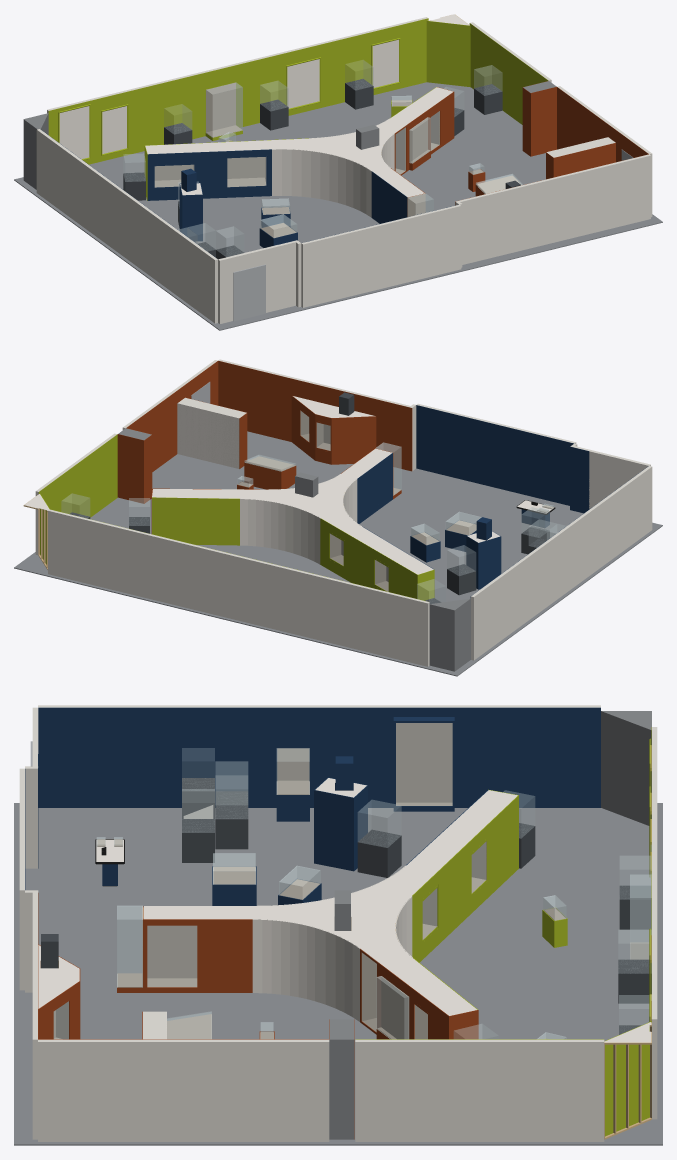
File: galeria.glb
The picture shows the model from 3 angles, top to bottom: view 1: azimuth 30°, elevation 25°; view 2: azimuth 150°, elevation 25°; view 3: azimuth 270°, elevation 25°; orthographic projection. The views are drawn at different scales.
Visible parts, largest first — view 1: sala-chao, sala-pintura-1, sala-parede-0, sala-parede-6, SW-Y-primario, sala-parede-tres-lados, CTX-acrilico, sala-parede-4, SW-Y-s1, CTX-existente, sala-pintura-2, SW-B-s2 (+29 smaller); view 2: sala-parede-1, sala-chao, sala-parede-0, sala-pintura-6, SW-Y-primario, SW-Y-s2, sala-pintura-4, sala-pintura-2, CTX-acrilico, SW-3L-s3, sala-Panelock-face-primada, sala-pintura-3 (+20 smaller); view 3: sala-chao, sala-pintura-0, sala-parede-3, sala-parede-2, SW-Y-primario, CTX-acrilico, CTX-existente, SW-Y-s3, SW-Y-s2, sala-parede-canto-A-existente, 1.0-taupe, 1.0-acrilico (+35 smaller).
Boxes of the visible parts, x1,y1,x2,y2 form: sala-chao: [14, 82, 662, 330]; sala-pintura-1: [48, 18, 428, 164]; sala-parede-0: [36, 129, 217, 323]; sala-parede-6: [301, 204, 461, 307]; SW-Y-primario: [145, 87, 453, 217]; sala-parede-tres-lados: [490, 172, 576, 257]; CTX-acrilico: [123, 60, 502, 256]; sala-parede-4: [575, 154, 650, 236]; SW-Y-s1: [147, 149, 407, 223]; CTX-existente: [123, 79, 502, 259]; sala-pintura-2: [469, 23, 548, 124]; SW-B-s2: [426, 21, 470, 87]; sala-parede-1: [48, 509, 429, 666]; sala-chao: [14, 431, 662, 676]; sala-parede-0: [471, 466, 652, 660]; sala-pintura-6: [416, 405, 573, 505]; SW-Y-primario: [152, 448, 433, 574]; SW-Y-s2: [152, 497, 434, 600]; sala-pintura-4: [218, 361, 291, 441]; sala-pintura-2: [38, 434, 117, 517]; CTX-acrilico: [61, 493, 565, 603]; SW-3L-s3: [291, 396, 376, 464]; sala-Panelock-face-primada: [177, 403, 239, 468]; sala-pintura-3: [126, 361, 218, 471]; sala-chao: [14, 803, 662, 1145]; sala-pintura-0: [38, 707, 600, 807]; sala-parede-3: [38, 1039, 329, 1141]; sala-parede-2: [355, 1039, 604, 1141]; SW-Y-primario: [143, 790, 517, 1021]; CTX-acrilico: [182, 748, 651, 1038]; CTX-existente: [182, 778, 651, 1034]; SW-Y-s3: [143, 906, 478, 1039]; SW-Y-s2: [412, 789, 518, 1009]; sala-parede-canto-A-existente: [601, 711, 651, 825]; 1.0-taupe: [396, 723, 452, 805]; 1.0-acrilico: [396, 723, 452, 805].
Bounding box in the file's own units: 21.94 × 3.04 × 17.63.
